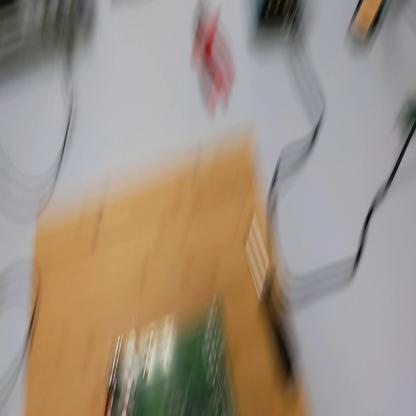low voltage board: (108, 293, 252, 416)
oscilloscope: (2, 3, 96, 68)
pliers: (192, 2, 234, 120)
screwdriver-: (244, 211, 299, 388)
welder base: (345, 1, 398, 59)
welder station: (246, 2, 304, 55)
working area: (28, 135, 312, 414)
